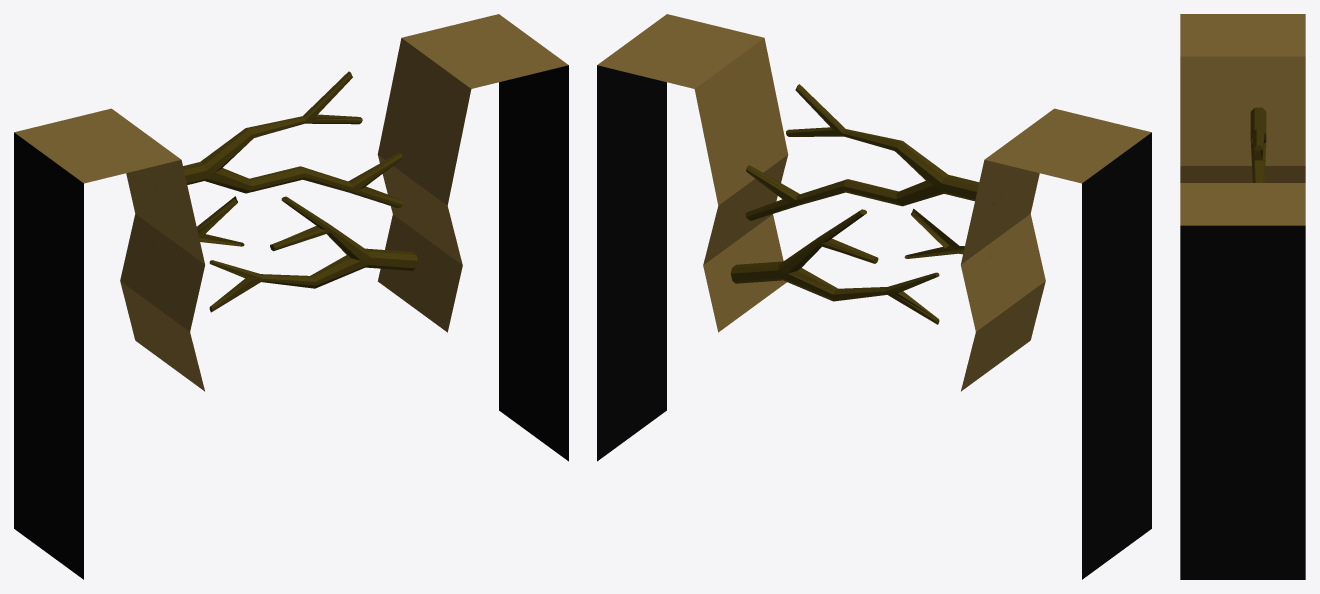
Rendered from obj_roots_19_0.obj.
3 renders of one model, left to right at view 1: azimuth 30°, elevation 25°; view 2: azimuth 150°, elevation 25°; view 3: azimuth 270°, elevation 25°, orthographic. The views are drawn at different scales.
Size of the model in its own units: 4 by 3.16 by 1.
